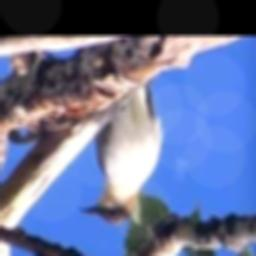Cuckoo: (77, 83, 162, 223)
